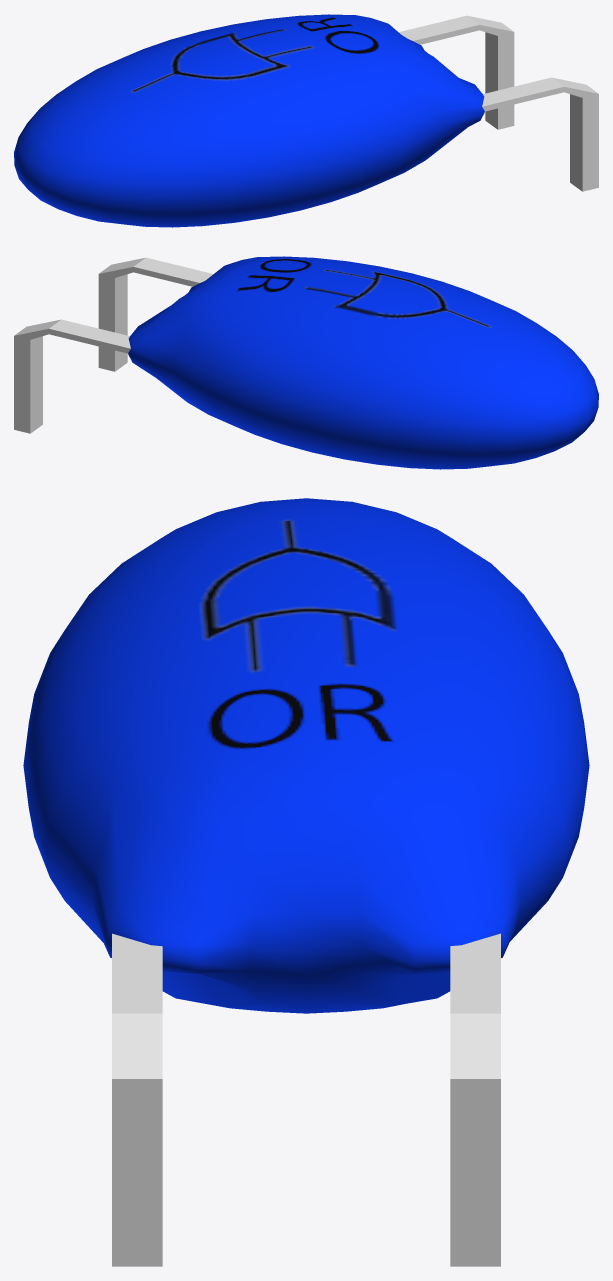
The model's file is OR(sin patas).fbx.
The picture shows the model from 3 angles, top to bottom: view 1: azimuth 30°, elevation 25°; view 2: azimuth 150°, elevation 25°; view 3: azimuth 270°, elevation 25°; orthographic projection. The views are drawn at different scales.
Visible parts, largest first — view 1: Sphere.001; view 2: Sphere.001; view 3: Sphere.001.
Part boxes in pixels (x1,y1,x2,y2): Sphere.001: (14,14,598,227); Sphere.001: (14,256,598,469); Sphere.001: (23,498,589,1266).
Bounding box in the file's own units: 359 × 117 × 167.
